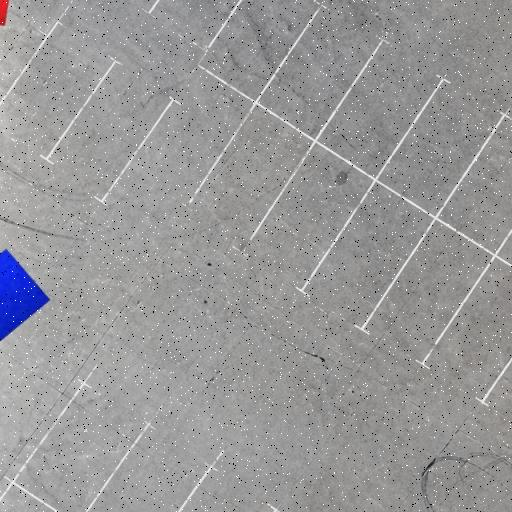BLUE_SQUARE: (0, 248, 51, 350)
